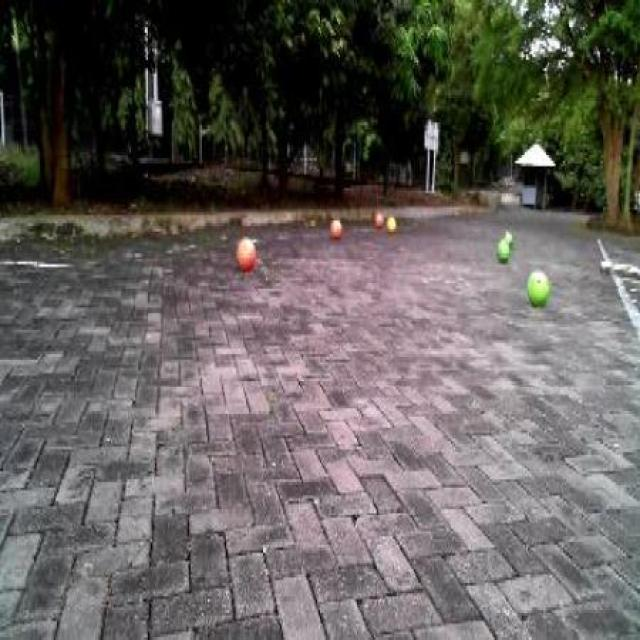buoy: (230, 230, 259, 274), (524, 266, 553, 310), (493, 235, 513, 262), (498, 227, 518, 250), (372, 201, 387, 231), (383, 214, 399, 235), (328, 217, 343, 238)
